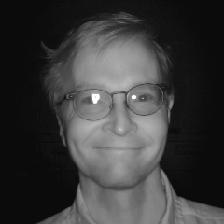happy: (32, 6, 196, 195)
